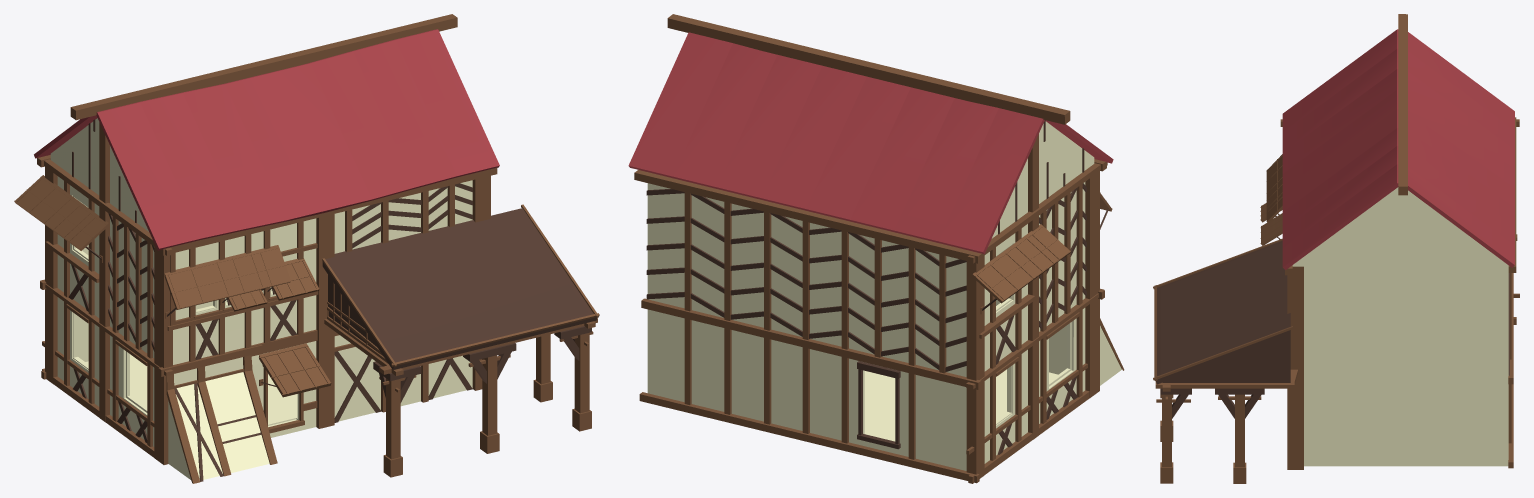
The model's file is house.fbx.
3 views of the same model, side by side, from view 1: azimuth 30°, elevation 25°; view 2: azimuth 150°, elevation 25°; view 3: azimuth 270°, elevation 25° (orthographic). The views are drawn at different scales.
Parts seen in each view (by area): view 1: Cube.036, Cube, Cube.052, Cube.045, Cube.069, Cube.001, Cube.043, Cube.025, Cube.019, Cube.003, Cube.066, Cube.033 (+5 smaller); view 2: Cube, Cube.036, Cube.045, Cube.043, Cube.025, Cube.069, Cube.003, Cube.033, Cube.001, Cube.067; view 3: Cube, Cube.036, Cube.052, Cube.069, Cube.019, Cube.003, Cube.055, Cube.011, Cube.051, Cube.066, Cube.043, Cube.001 (+1 smaller).
Part boxes in pixels (x1,y1,x2,y2): Cube.036: (34, 29, 499, 250); Cube: (50, 118, 472, 479); Cube.052: (322, 208, 596, 369); Cube.045: (64, 181, 454, 483); Cube.069: (45, 122, 490, 464); Cube.001: (14, 175, 331, 397); Cube.043: (37, 155, 497, 426); Cube.025: (68, 183, 472, 481); Cube.019: (383, 332, 591, 477); Cube.003: (70, 14, 457, 120); Cube.066: (164, 245, 291, 309); Cube.033: (41, 296, 355, 457); Cube: (647, 121, 1121, 470); Cube.036: (628, 32, 1113, 254); Cube.045: (684, 184, 1124, 460); Cube.043: (634, 159, 1107, 454); Cube.025: (646, 183, 1086, 454); Cube.069: (966, 134, 1099, 478); Cube.003: (667, 14, 1070, 124); Cube.033: (639, 312, 1089, 483); Cube.001: (971, 224, 1070, 303); Cube.067: (857, 361, 900, 449); Cube: (1292, 187, 1508, 466); Cube.036: (1282, 29, 1514, 269); Cube.052: (1156, 240, 1290, 384); Cube.069: (1287, 266, 1303, 469); Cube.019: (1160, 389, 1246, 483); Cube.003: (1398, 14, 1407, 195); Cube.055: (1153, 238, 1293, 381); Cube.011: (1160, 388, 1264, 418); Cube.051: (1155, 369, 1298, 391); Cube.066: (1266, 154, 1282, 222); Cube.043: (1280, 117, 1519, 384); Cube.001: (1260, 203, 1282, 245).
Size of the model in its own units: 449 by 347 by 390.
